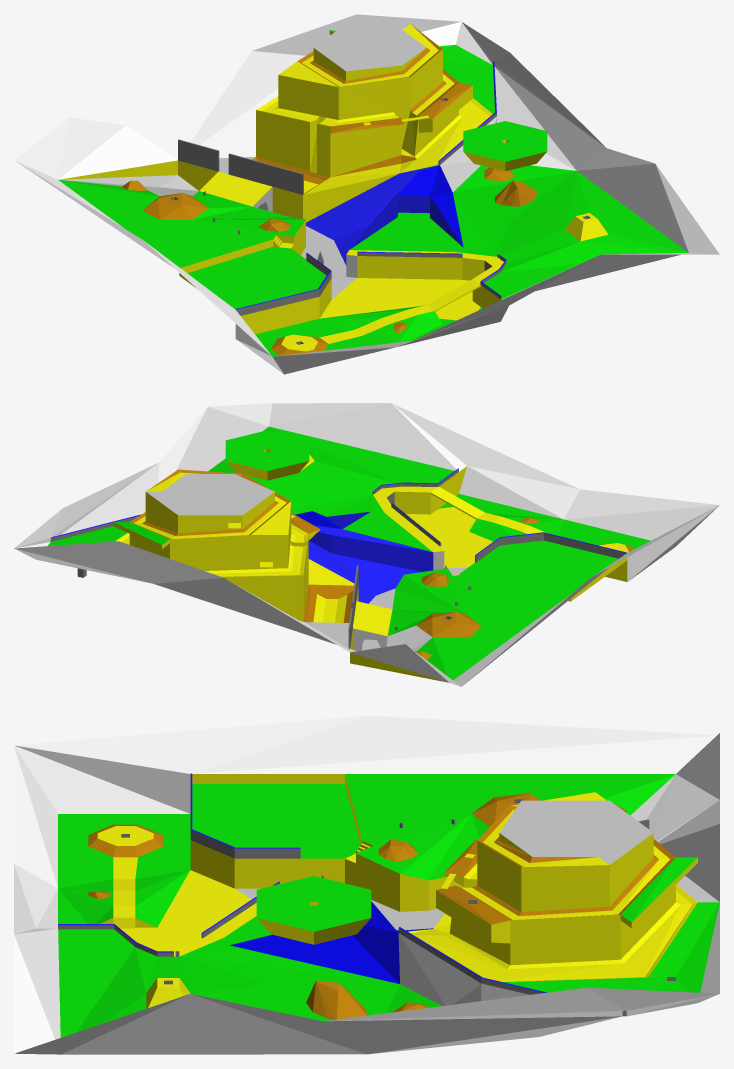
The model's file is bob_segment7.0x0E958.collision.obj.
3 renders of one model, top to bottom at view 1: azimuth 30°, elevation 25°; view 2: azimuth 150°, elevation 25°; view 3: azimuth 270°, elevation 25°, orthographic. The views are drawn at different scales.
Visible parts, largest first — view 1: bob_segment7_0E958_normal, bob_segment7_0E958_grass, bob_segment7_0E958_unclimbable, bob_segment7_0E958_climbable, bob_segment7_0E958_slippery, bob_segment7_0E958_wall, bob_segment7_0E958_65, bob_segment7_0E958_0B, bob_segment7_0E958_very_slippery; view 2: bob_segment7_0E958_unclimbable, bob_segment7_0E958_grass, bob_segment7_0E958_normal, bob_segment7_0E958_slippery, bob_segment7_0E958_climbable, bob_segment7_0E958_65, bob_segment7_0E958_wall, bob_segment7_0E958_0B, bob_segment7_0E958_70; view 3: bob_segment7_0E958_unclimbable, bob_segment7_0E958_grass, bob_segment7_0E958_normal, bob_segment7_0E958_climbable, bob_segment7_0E958_65, bob_segment7_0E958_very_slippery, bob_segment7_0E958_wall, bob_segment7_0E958_0B, bob_segment7_0E958_slippery.
Boxes of the visible parts, x1,y1,x2,y2 form: bob_segment7_0E958_normal: (60, 24, 608, 351); bob_segment7_0E958_grass: (59, 30, 688, 356); bob_segment7_0E958_unclimbable: (14, 14, 719, 374); bob_segment7_0E958_climbable: (121, 24, 537, 355); bob_segment7_0E958_slippery: (235, 61, 506, 309); bob_segment7_0E958_wall: (170, 66, 590, 344); bob_segment7_0E958_65: (314, 24, 426, 71); bob_segment7_0E958_0B: (58, 175, 357, 299); bob_segment7_0E958_very_slippery: (398, 165, 463, 246); bob_segment7_0E958_unclimbable: (14, 403, 719, 686); bob_segment7_0E958_grass: (48, 426, 650, 680); bob_segment7_0E958_normal: (113, 449, 628, 682); bob_segment7_0E958_slippery: (51, 468, 626, 603); bob_segment7_0E958_climbable: (130, 469, 634, 659); bob_segment7_0E958_65: (146, 474, 274, 515); bob_segment7_0E958_wall: (50, 469, 626, 648); bob_segment7_0E958_0B: (353, 551, 467, 651); bob_segment7_0E958_70: (304, 622, 353, 648); bob_segment7_0E958_unclimbable: (14, 715, 719, 1054); bob_segment7_0E958_grass: (58, 774, 719, 1037); bob_segment7_0E958_normal: (97, 774, 697, 1008); bob_segment7_0E958_climbable: (87, 793, 675, 1019); bob_segment7_0E958_65: (499, 800, 653, 864); bob_segment7_0E958_very_slippery: (230, 901, 399, 983); bob_segment7_0E958_wall: (58, 799, 675, 1016); bob_segment7_0E958_0B: (235, 774, 675, 930); bob_segment7_0E958_slippery: (58, 773, 546, 992).
Size of the model in its own units: 16 by 4.57 by 16.
